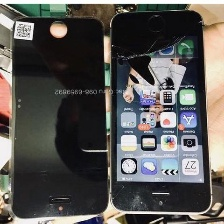phone: (106, 7, 216, 217), (4, 12, 112, 221)
